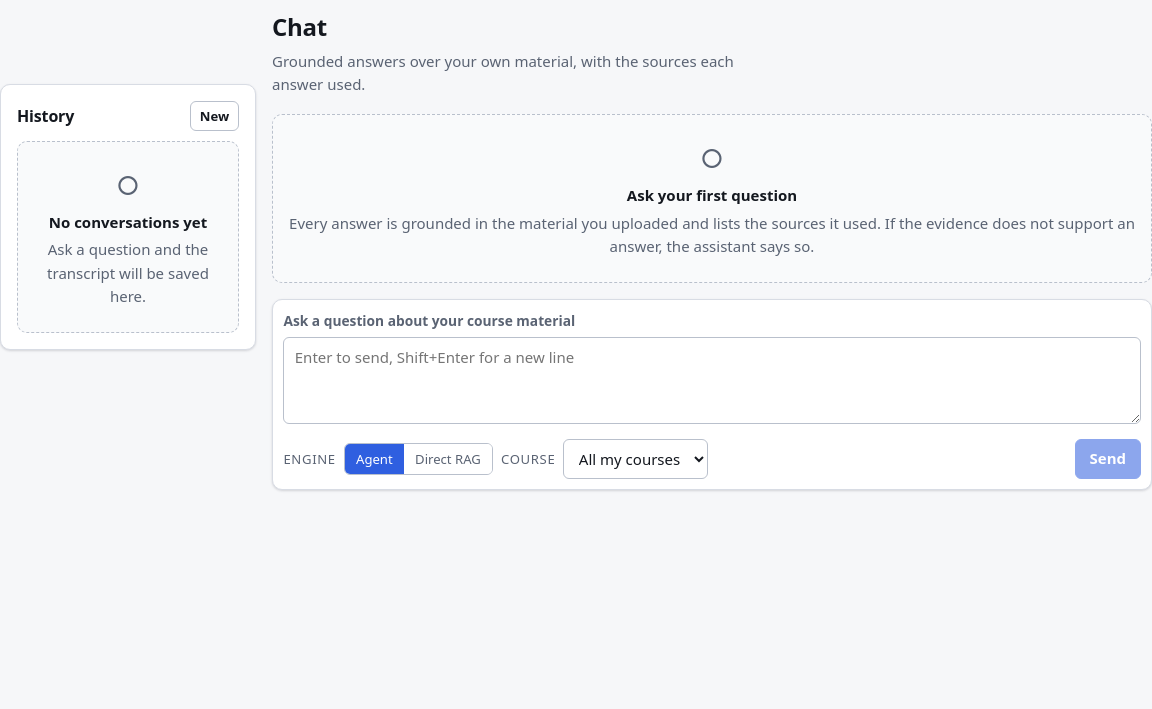
Test: chat streaming › renders citations as chips that expand to the source
The image size is (1152, 709).
Type "Where is this defined?" into the text box labelled "Ask a question about your course material". click: point(712, 380)
box: top-left (283, 337), bottom-right (1141, 424)
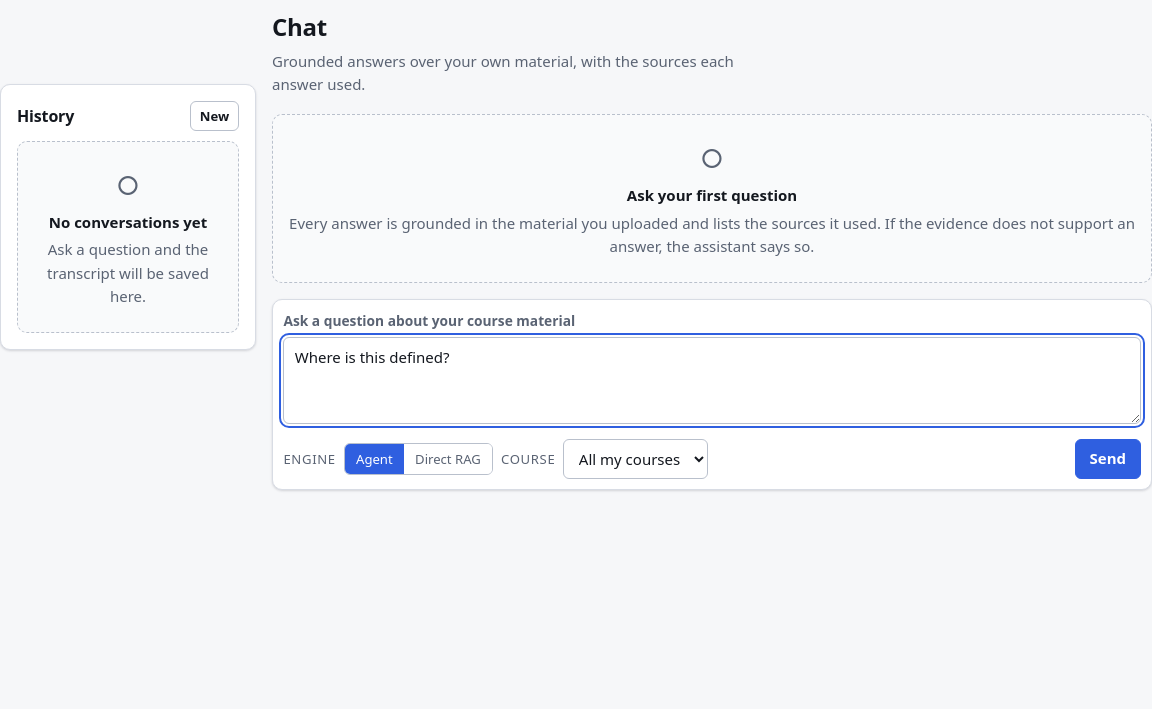
Click the button "Send". click: point(1108, 459)
box: top-left (1075, 439), bottom-right (1141, 478)
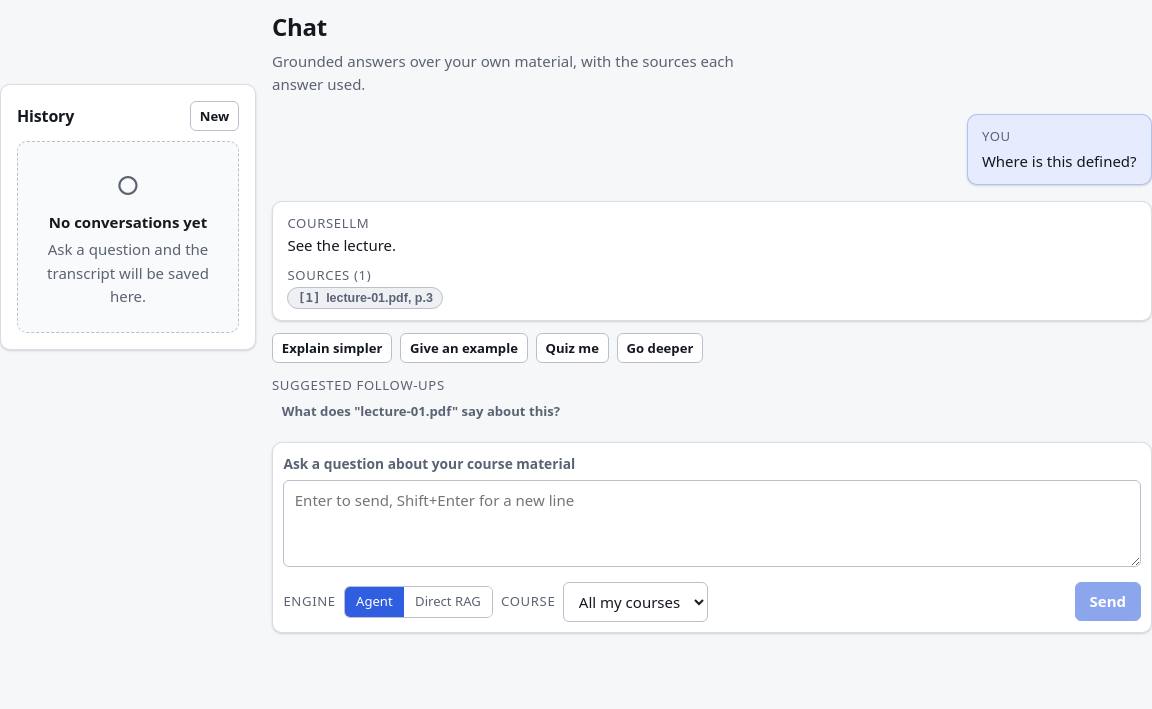
Click the button "[1] lecture-01.pdf, p.3". click: point(365, 298)
box: top-left (287, 287), bottom-right (443, 309)
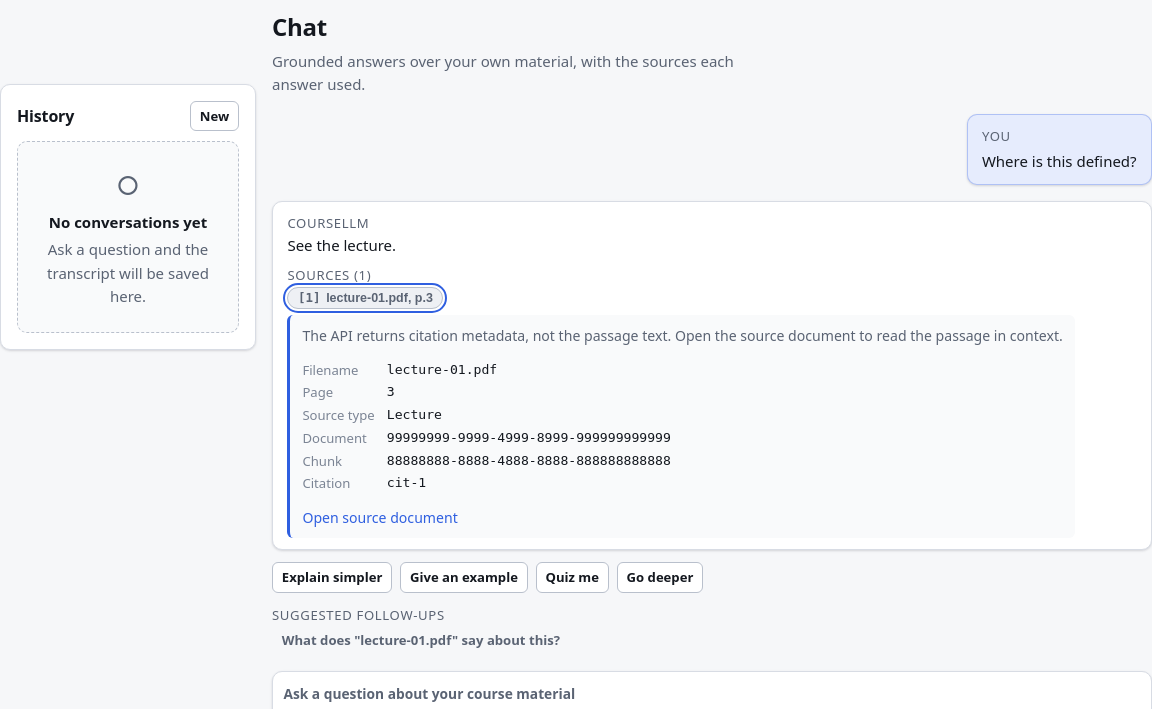
Now the button "[1] lecture-01.pdf, p.3" is expanded, box top-left (287, 287), bottom-right (443, 309)
Now the text "lecture-01.pdf" is shown, box top-left (387, 362), bottom-right (497, 377)
Now the text "3" is shown, box top-left (387, 384), bottom-right (395, 399)
